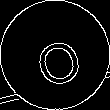O_N: (25, 24, 85, 86)
